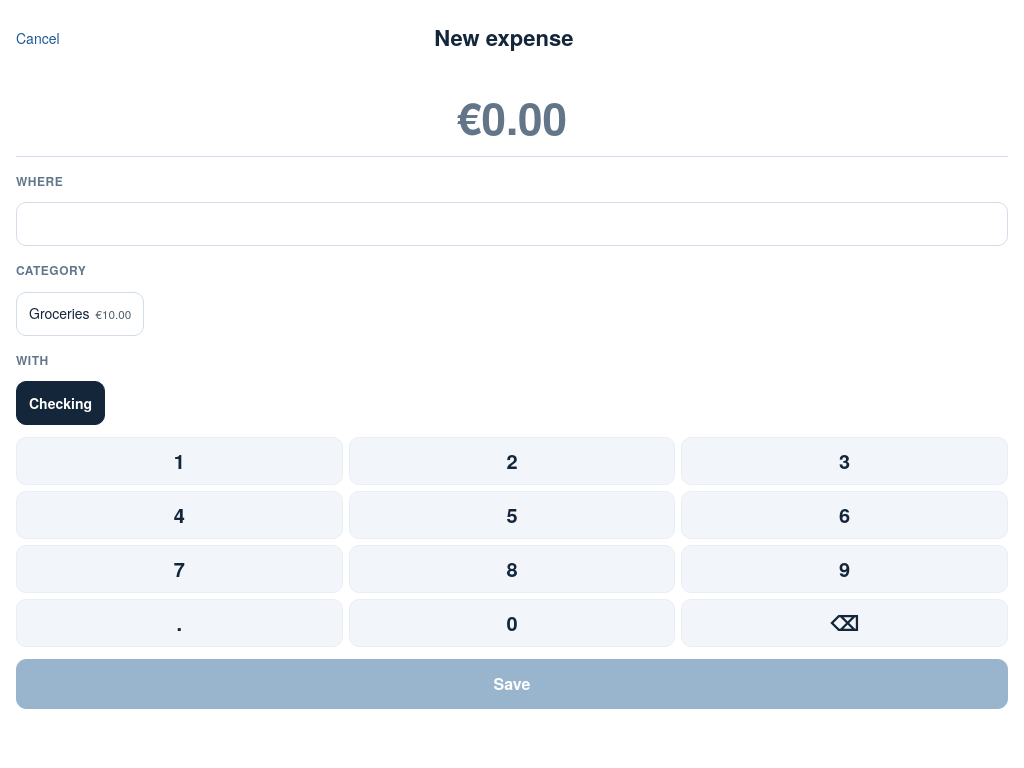
Test: QuickEntryOverlay (#367) › flags the category as overspent when the expense exceeds what is available
Expected: the heading "New expense" is shown, [434,22,573,54]
Step 1. Click the button "1" → coordinates (179, 461), box [16,437,343,485]
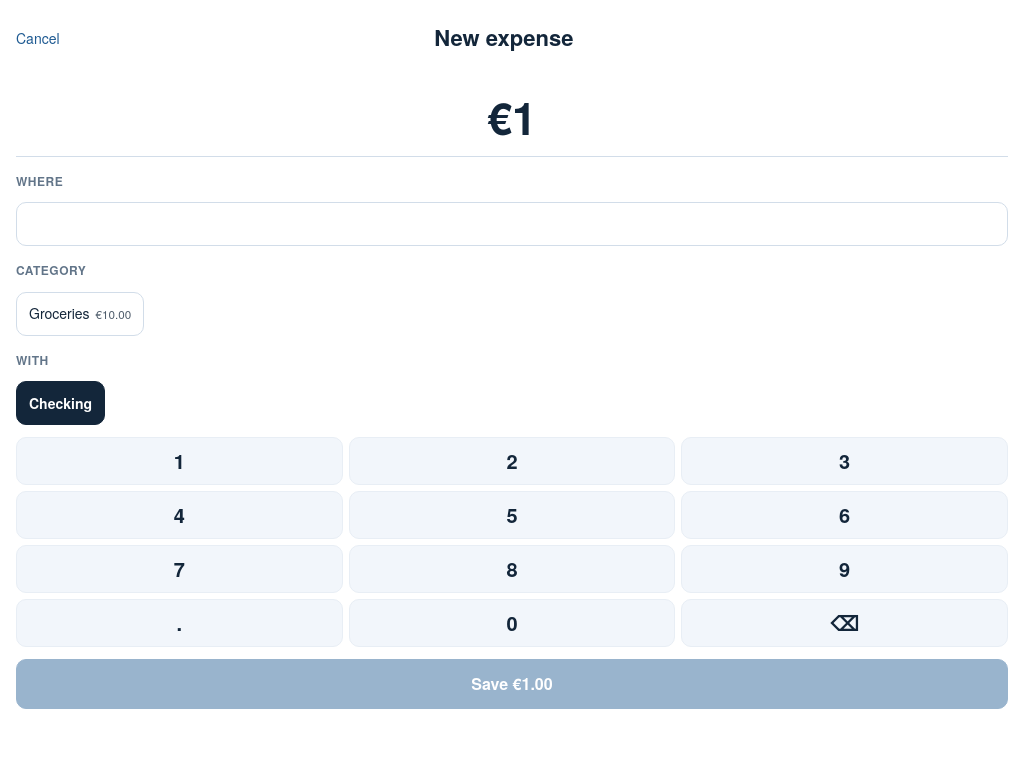
Step 2. Click the button "5" → coordinates (512, 515), box [349,491,675,539]
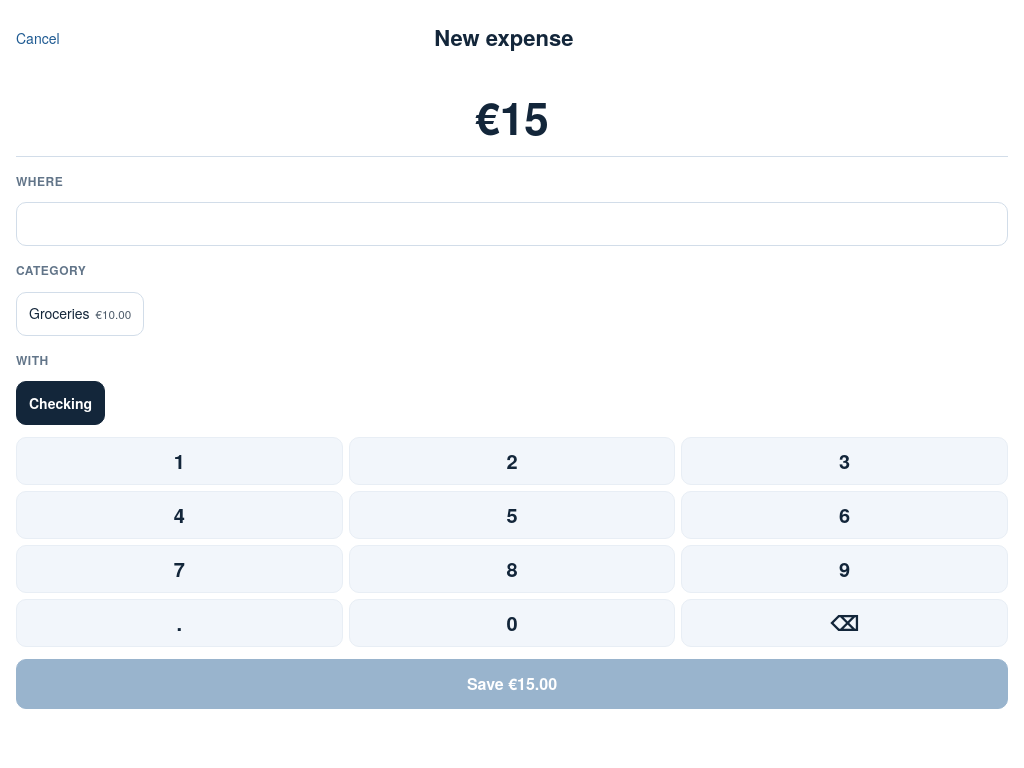
Step 3. Click the button "Groceries€10.00" → coordinates (80, 314), box [16,292,144,336]
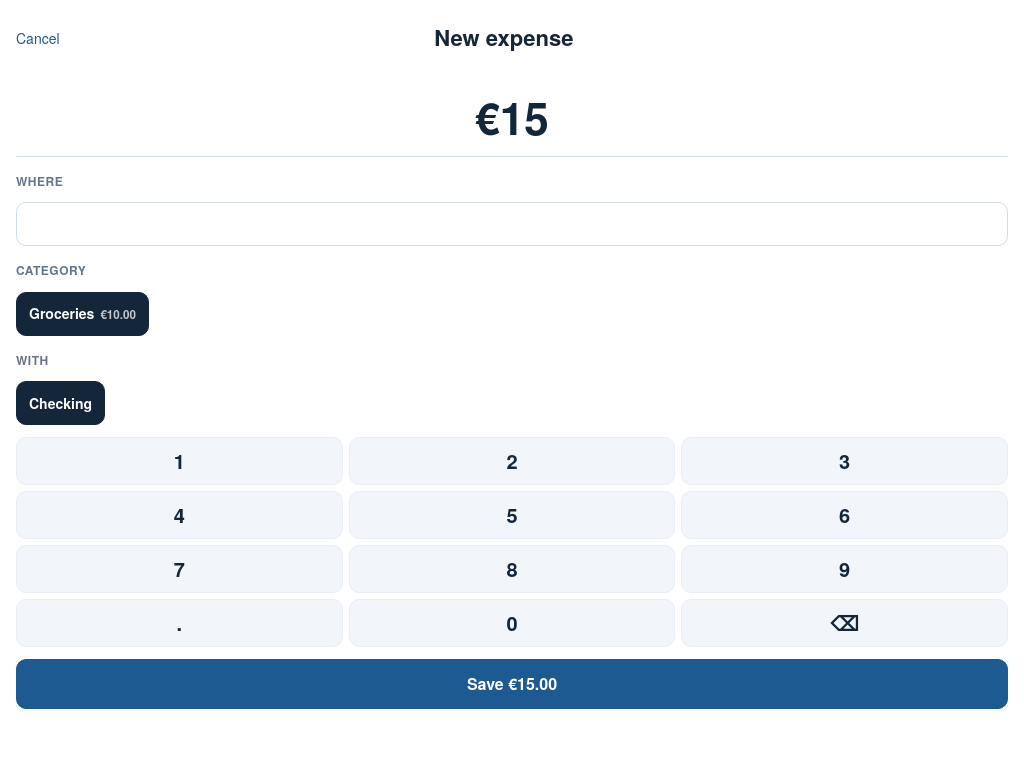
Step 4. Click the button "Save €15.00" → coordinates (512, 684), box [16,659,1008,709]
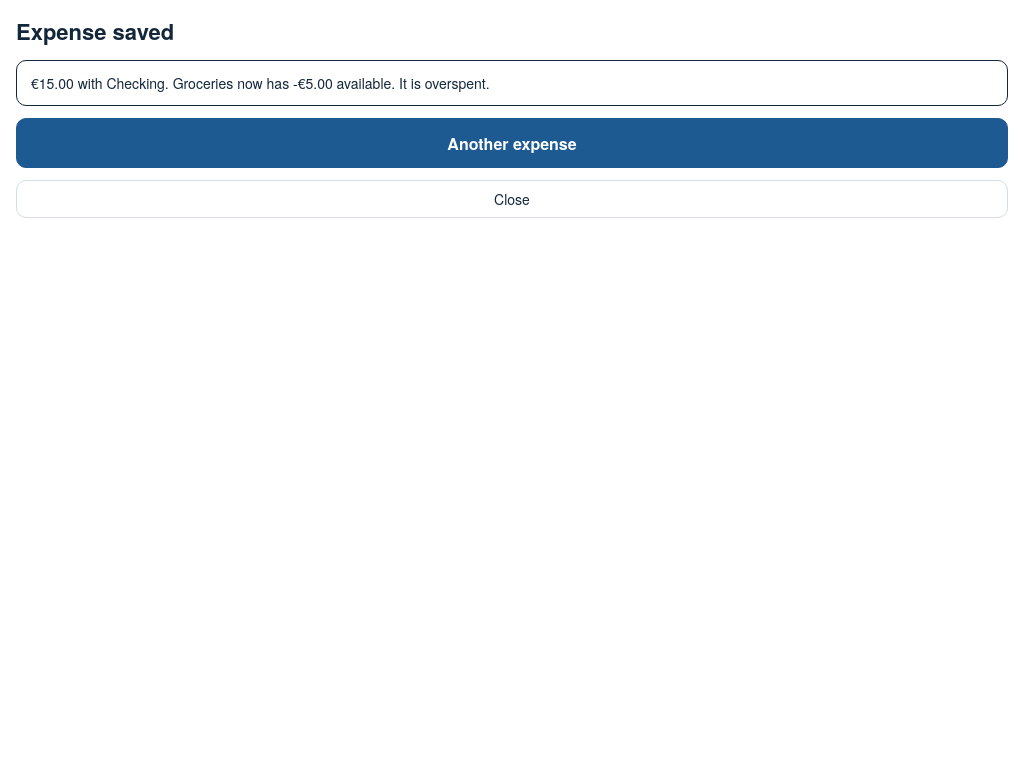
Expected: the heading "Expense saved" is shown, [16,16,174,48]
Expected: the text with class "toast" shows "It is overspent.", [399,73,490,93]
